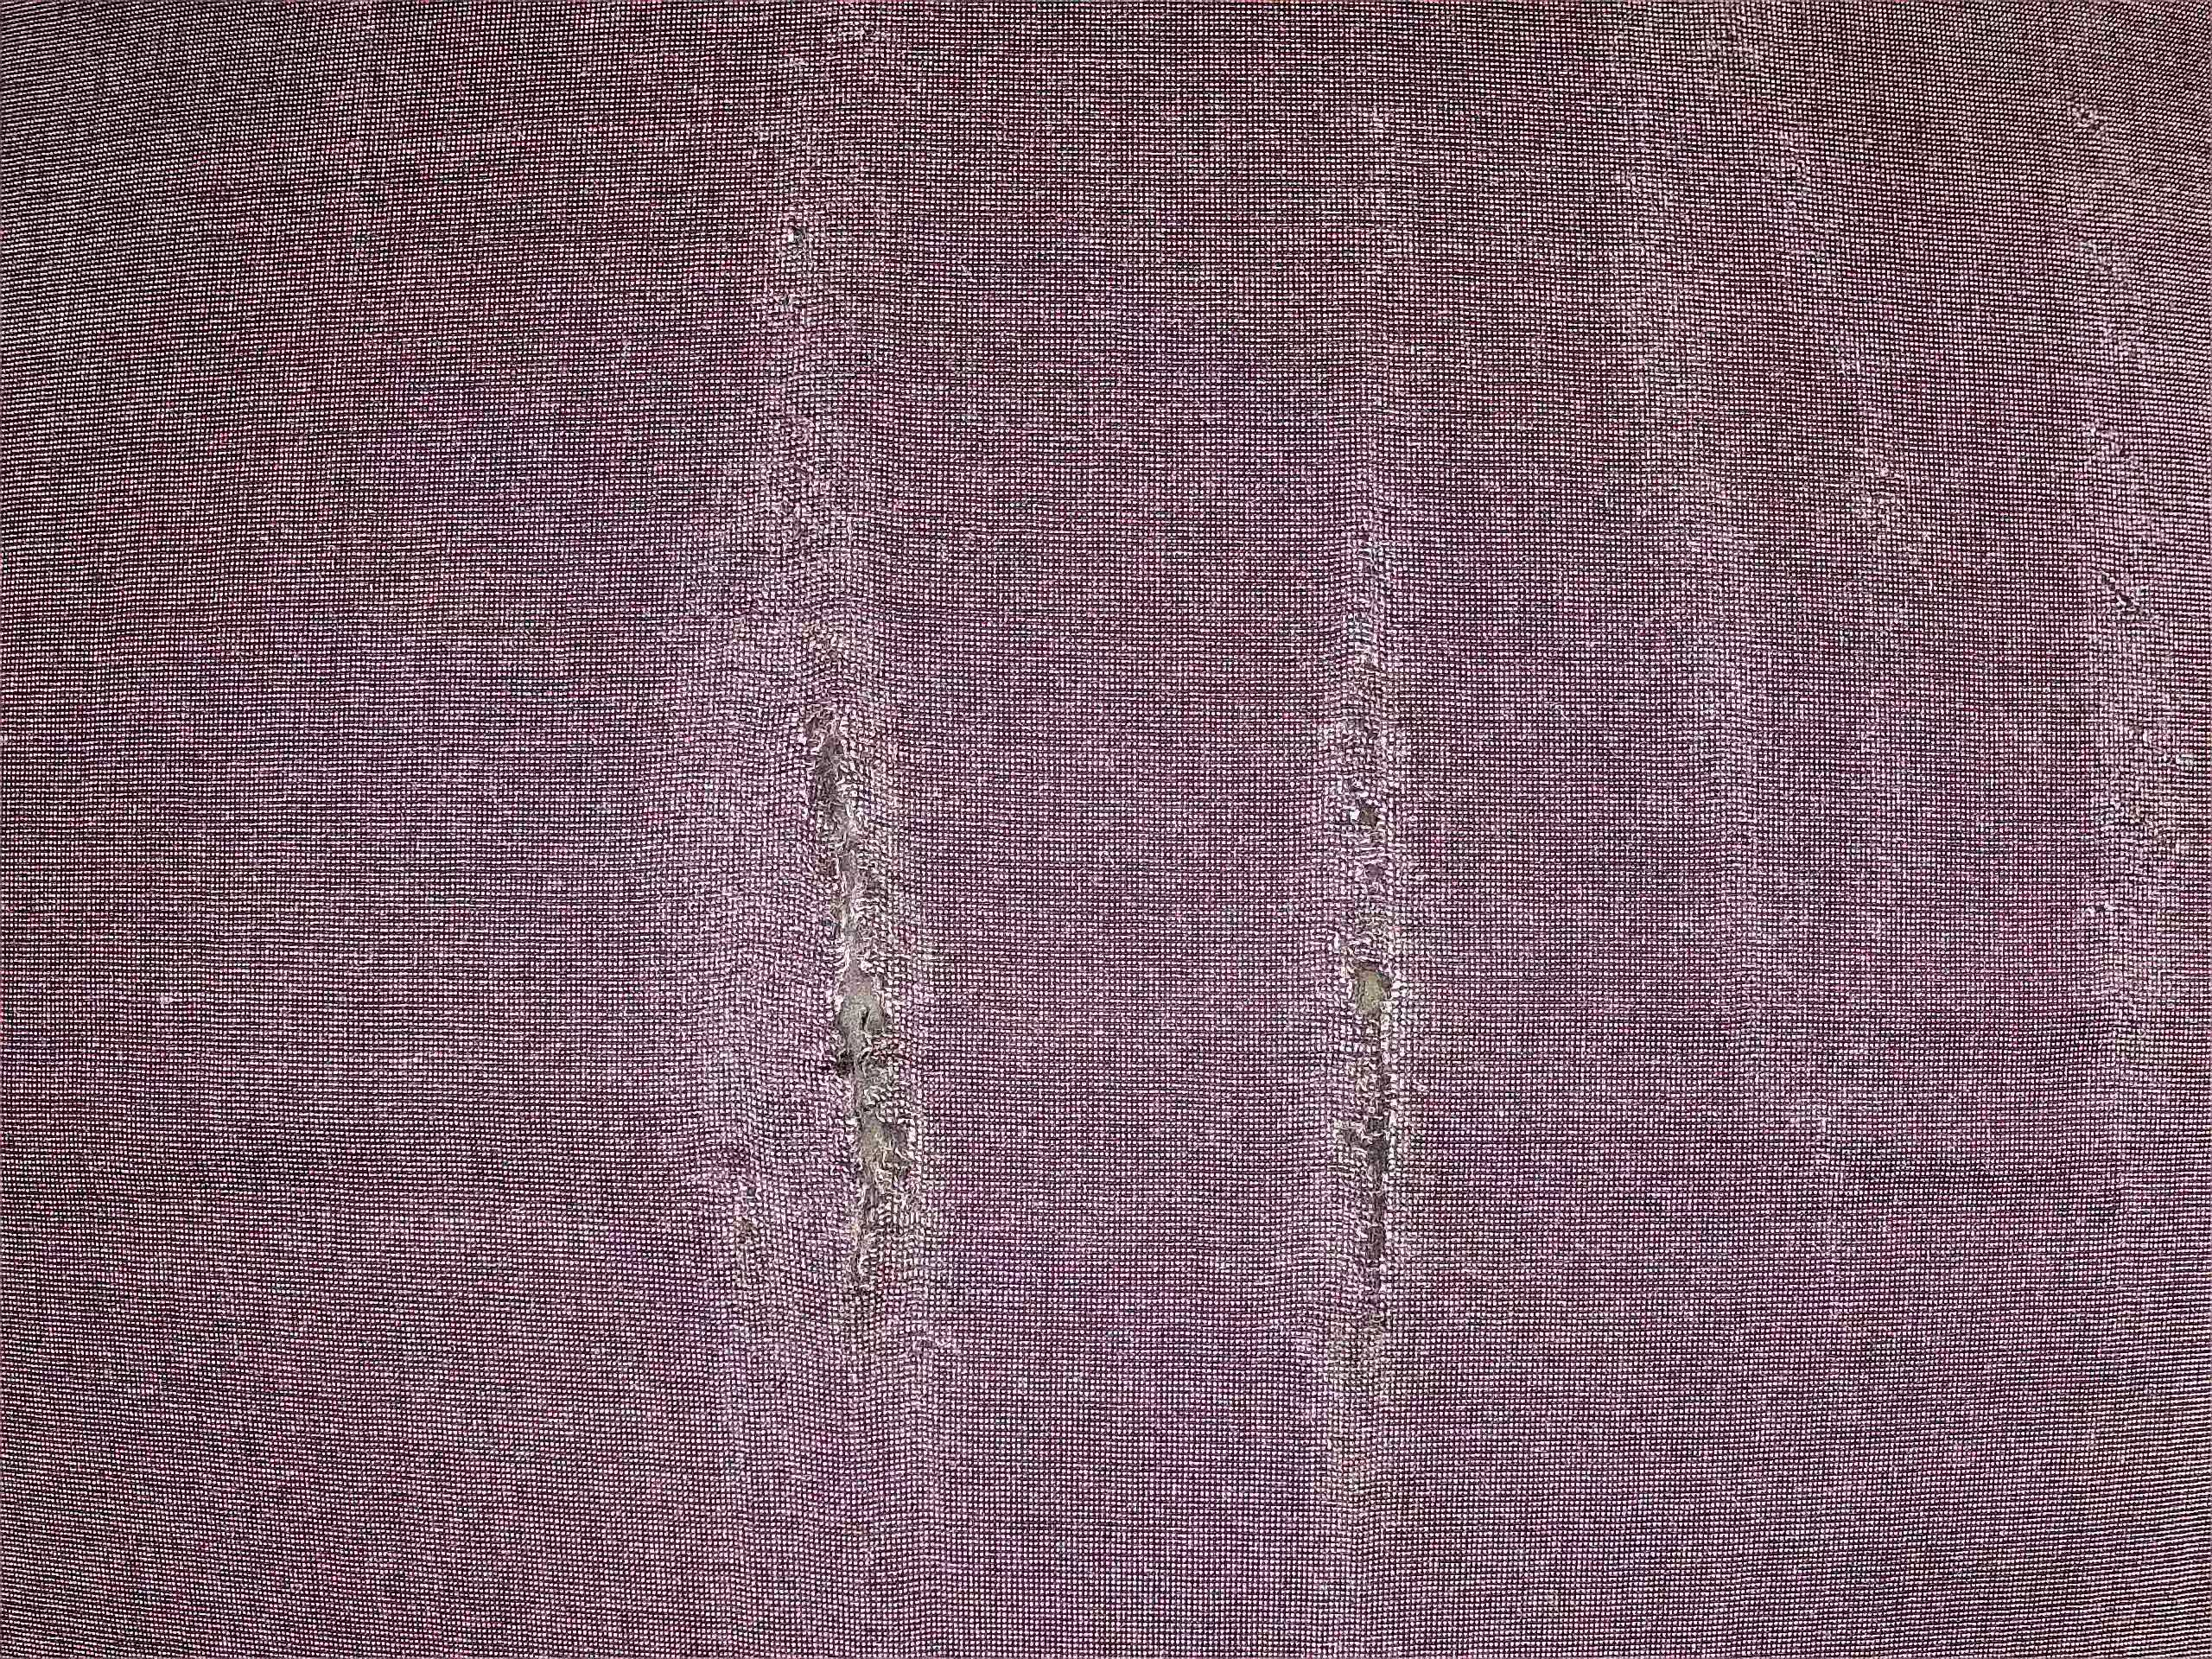rubbing-hole: (723, 206, 979, 1492), (1285, 472, 1468, 1432), (2069, 443, 2189, 1058)
